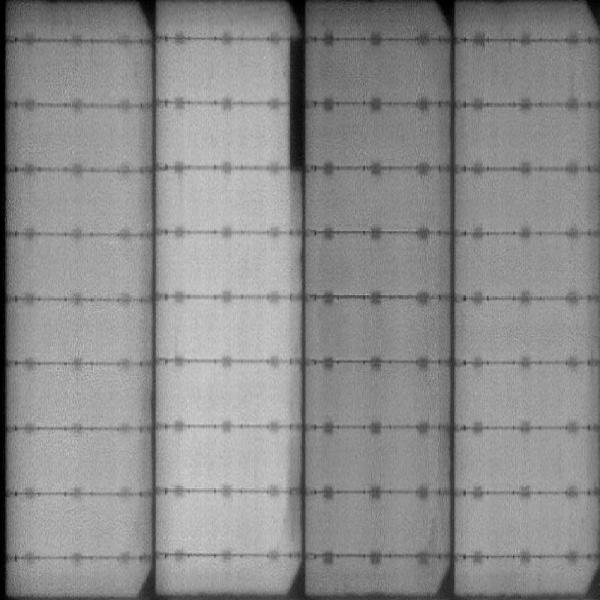black_border: (285, 36, 309, 174)
